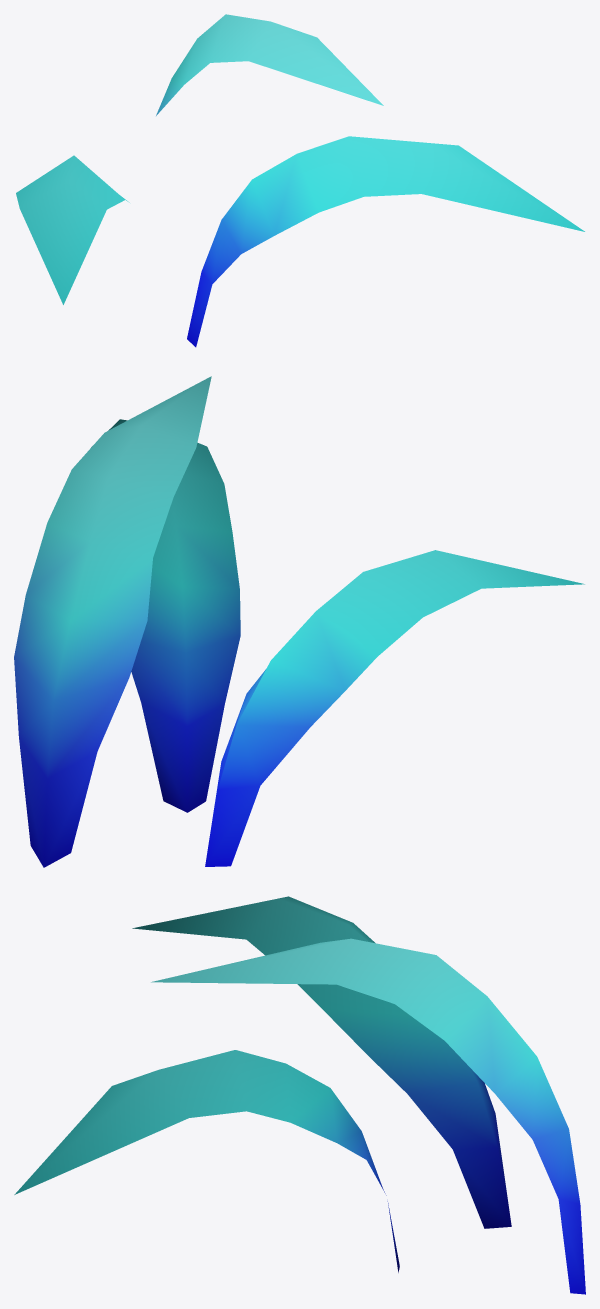
File: SM_Env_Fern_Part_03.gltf
The picture shows the model from 3 angles, top to bottom: view 1: azimuth 30°, elevation 25°; view 2: azimuth 150°, elevation 25°; view 3: azimuth 270°, elevation 25°; orthographic projection. The views are drawn at different scales.
Visible parts, largest first — view 1: SM_Env_Fern_Part_03_LOD0; view 2: SM_Env_Fern_Part_03_LOD0; view 3: SM_Env_Fern_Part_03_LOD0.
Part boxes in pixels (<box>): SM_Env_Fern_Part_03_LOD0: <box>16,14,584,347</box>; SM_Env_Fern_Part_03_LOD0: <box>14,376,584,867</box>; SM_Env_Fern_Part_03_LOD0: <box>14,896,585,1294</box>.
Size of the model in its own units: 2.13 by 1.38 by 1.96.
